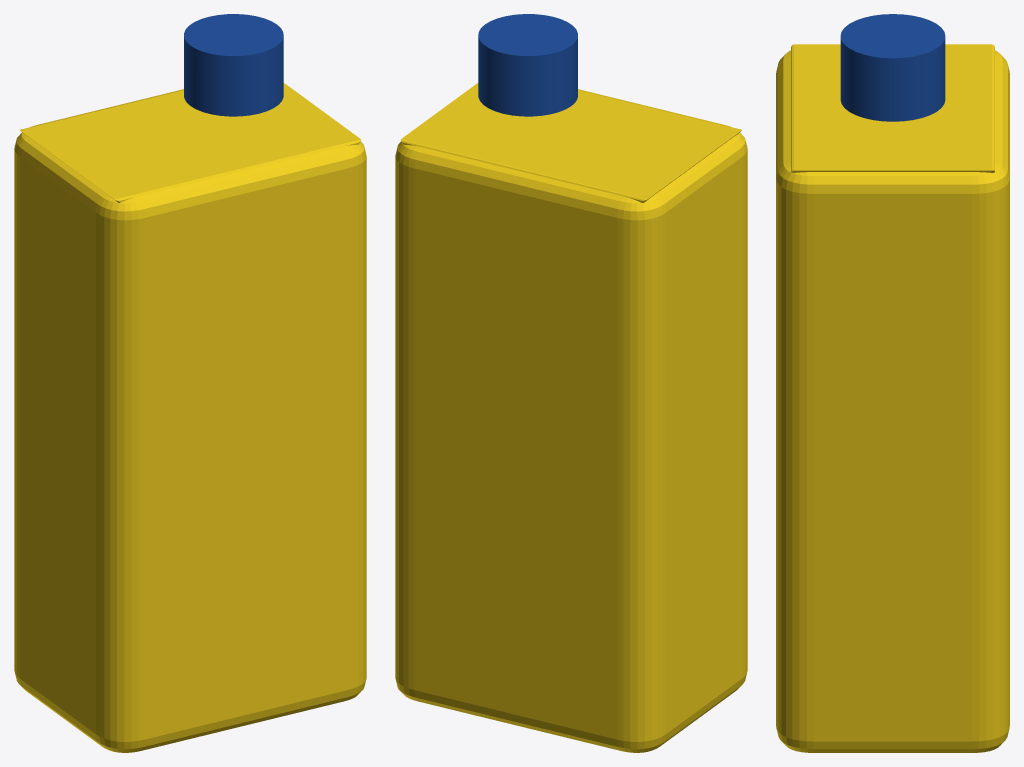
Rendered from bibite-estathe-limone.glb.
3 views of the same model, side by side, from view 1: azimuth 30°, elevation 25°; view 2: azimuth 150°, elevation 25°; view 3: azimuth 270°, elevation 25° (orthographic). The views are drawn at different scales.
Bounding box in the file's own units: 0.0551 × 0.128 × 0.0401.
